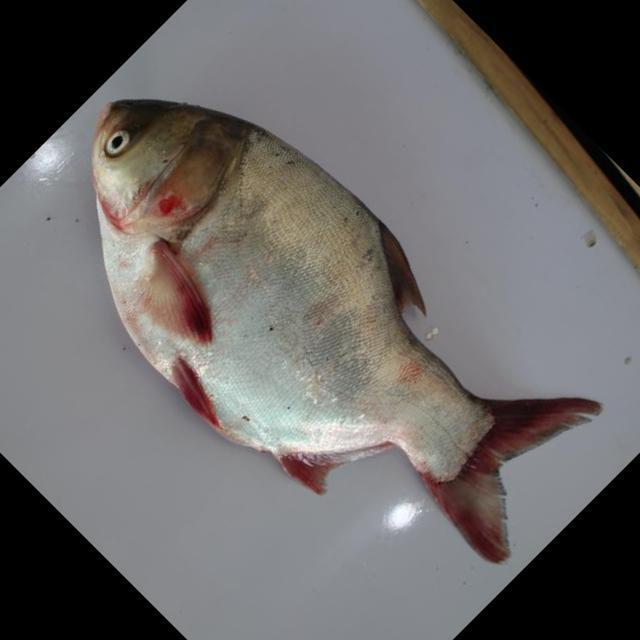Silver Carp: (47, 82, 610, 555)
